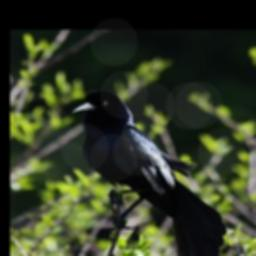Crow: (70, 87, 225, 256)
